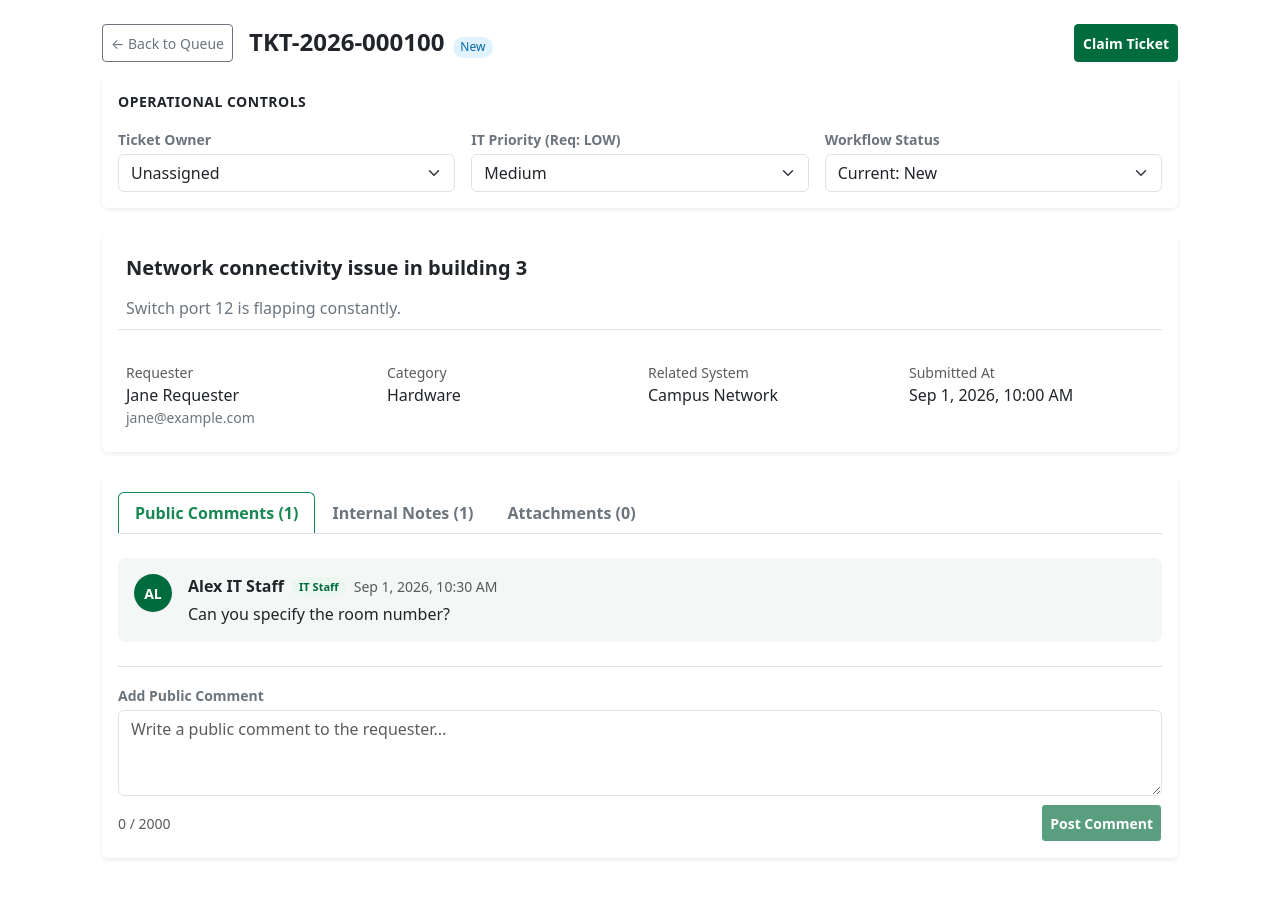
Test: Staff Ticket Detail Tests (Lab 3 — Issue 26: UI-19..UI-21, UI-23) › UI-19a: Claim Ticket button claims unassigned ticket and updates owner
Click the button "Claim Ticket": [1126, 43] box [1074, 24, 1178, 62]
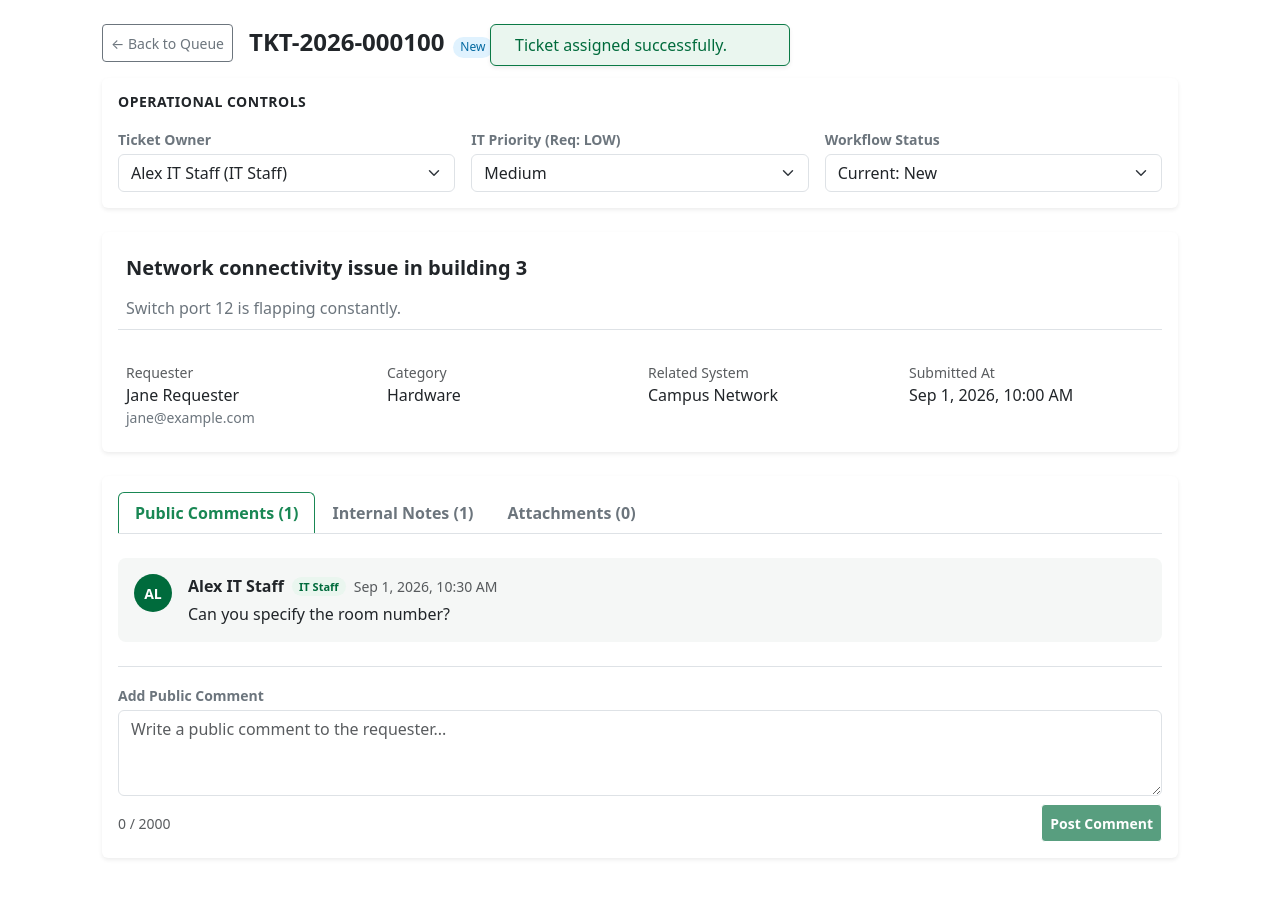
Now the button "Claim Ticket" is gone
Now the dropdown named "Assign Ticket Owner" shows "Alex IT Staff (IT Staff)", box [118, 154, 455, 192]
